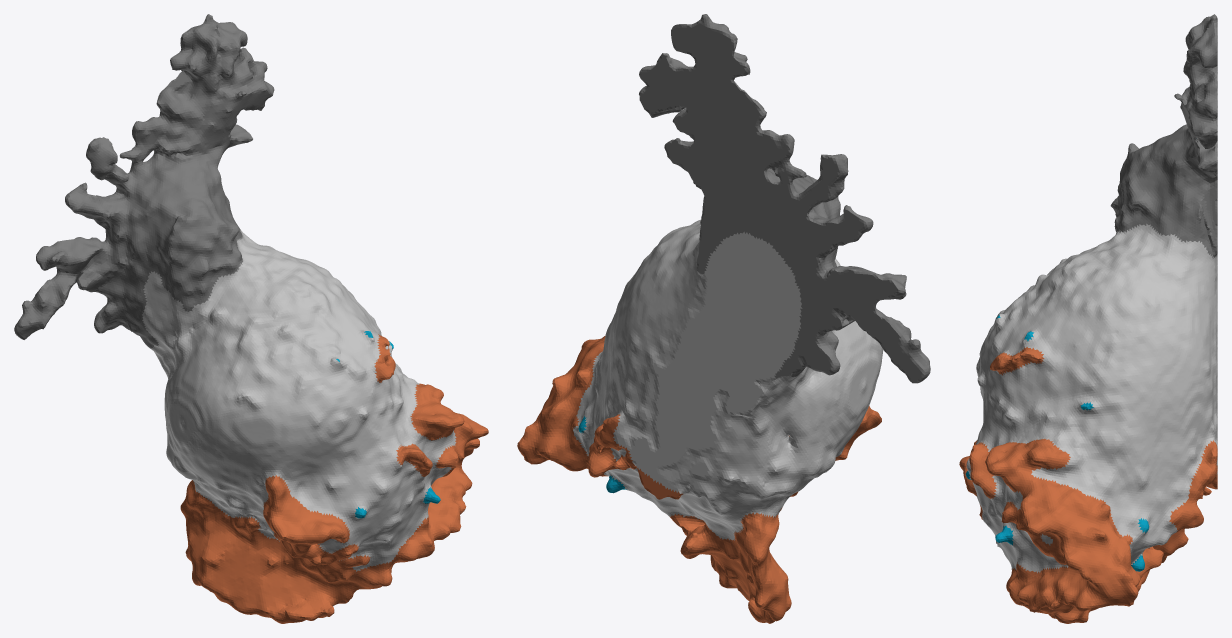
3 views of the same model, side by side, from view 1: azimuth 30°, elevation 25°; view 2: azimuth 150°, elevation 25°; view 3: azimuth 270°, elevation 25° (orthographic). The views are drawn at different scales.
Bounding box in the file's own units: 147 × 200 × 79.14.
